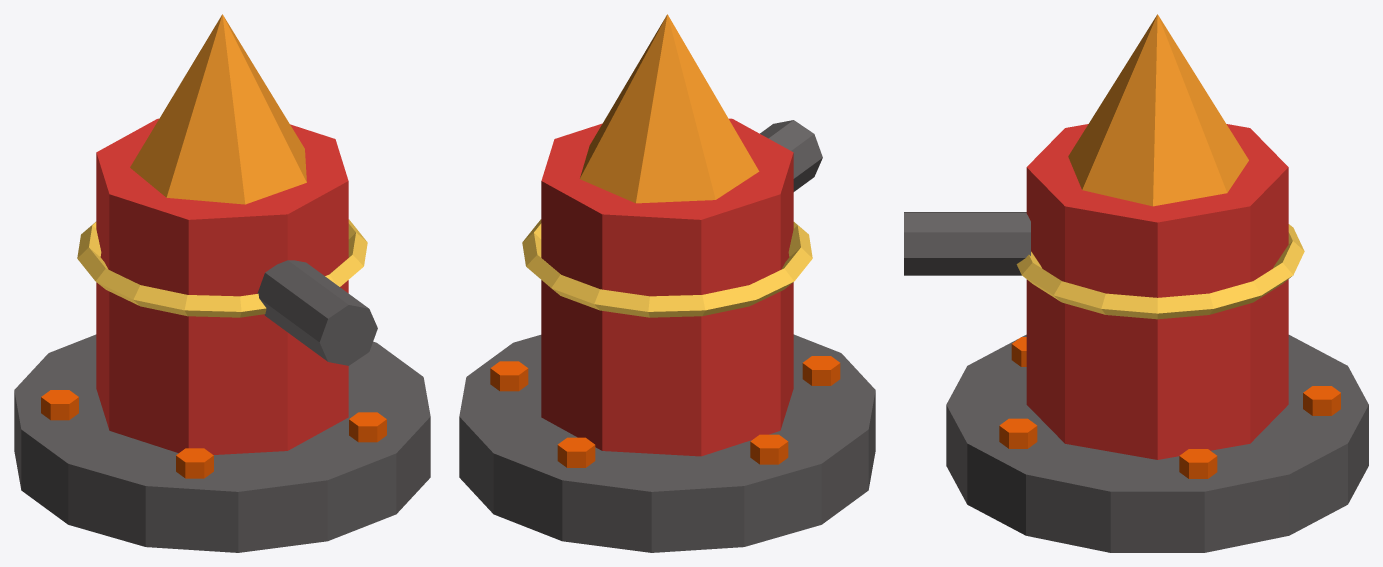
Rendered from TD_FireTower_T1.fbx.
The picture shows the model from 3 angles, left to right: view 1: azimuth 30°, elevation 25°; view 2: azimuth 150°, elevation 25°; view 3: azimuth 270°, elevation 25°; orthographic projection.
Parts seen in each view (by area): view 1: TD_FireTower_T1_Body, TD_FireTower_T1_Base, TD_FireTower_T1_Flame_Outer, TD_FireTower_T1_FrontNozzle, TD_FireTower_T1_GoldBodyRing, TD_FireTower_T1_EmberStone_3, TD_FireTower_T1_EmberStone_4, TD_FireTower_T1_EmberStone_5; view 2: TD_FireTower_T1_Body, TD_FireTower_T1_Base, TD_FireTower_T1_Flame_Outer, TD_FireTower_T1_GoldBodyRing, TD_FireTower_T1_FrontNozzle, TD_FireTower_T1_EmberStone_1, TD_FireTower_T1_EmberStone_3, TD_FireTower_T1_EmberStone_2, TD_FireTower_T1_EmberStone_4; view 3: TD_FireTower_T1_Body, TD_FireTower_T1_Base, TD_FireTower_T1_Flame_Outer, TD_FireTower_T1_FrontNozzle, TD_FireTower_T1_GoldBodyRing, TD_FireTower_T1_EmberStone_5, TD_FireTower_T1_EmberStone_1, TD_FireTower_T1_EmberStone_2.
Boxes of the visible parts, bbox=[...] form: TD_FireTower_T1_Body: bbox=[96, 118, 348, 454]; TD_FireTower_T1_Base: bbox=[14, 334, 430, 552]; TD_FireTower_T1_Flame_Outer: bbox=[130, 14, 306, 204]; TD_FireTower_T1_FrontNozzle: bbox=[257, 260, 377, 365]; TD_FireTower_T1_GoldBodyRing: bbox=[77, 219, 367, 317]; TD_FireTower_T1_EmberStone_3: bbox=[41, 390, 78, 420]; TD_FireTower_T1_EmberStone_4: bbox=[176, 448, 213, 478]; TD_FireTower_T1_EmberStone_5: bbox=[349, 412, 386, 442]; TD_FireTower_T1_Body: bbox=[541, 118, 793, 456]; TD_FireTower_T1_Base: bbox=[459, 334, 875, 552]; TD_FireTower_T1_Flame_Outer: bbox=[580, 14, 759, 203]; TD_FireTower_T1_GoldBodyRing: bbox=[522, 219, 812, 317]; TD_FireTower_T1_FrontNozzle: bbox=[760, 120, 822, 191]; TD_FireTower_T1_EmberStone_1: bbox=[490, 361, 528, 391]; TD_FireTower_T1_EmberStone_3: bbox=[750, 434, 788, 464]; TD_FireTower_T1_EmberStone_2: bbox=[557, 437, 595, 467]; TD_FireTower_T1_EmberStone_4: bbox=[802, 356, 840, 385]; TD_FireTower_T1_Body: bbox=[1026, 124, 1288, 459]; TD_FireTower_T1_Base: bbox=[946, 334, 1368, 552]; TD_FireTower_T1_Flame_Outer: bbox=[1068, 14, 1248, 206]; TD_FireTower_T1_FrontNozzle: bbox=[904, 212, 1030, 275]; TD_FireTower_T1_GoldBodyRing: bbox=[1016, 224, 1304, 319]; TD_FireTower_T1_EmberStone_5: bbox=[999, 418, 1037, 448]; TD_FireTower_T1_EmberStone_1: bbox=[1179, 449, 1217, 478]; TD_FireTower_T1_EmberStone_2: bbox=[1303, 386, 1340, 415].
Size of the model in its own units: 0.9749 by 1.18 by 1.1.
